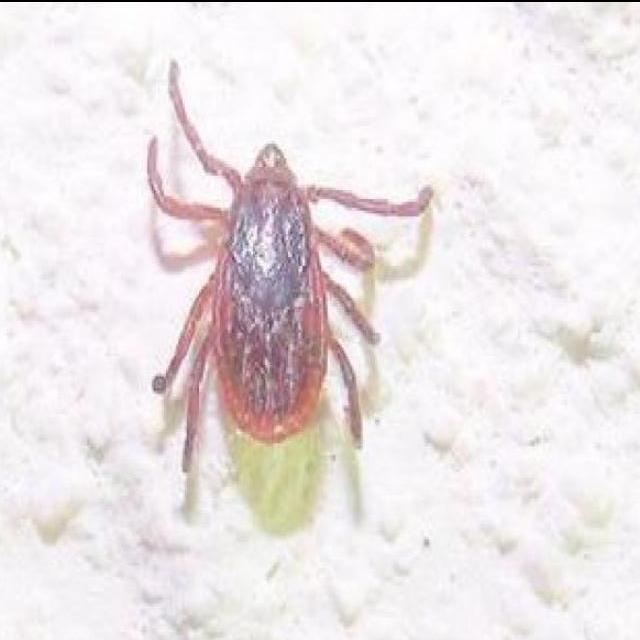Rhipicephalus Sanguineus-F: (145, 54, 433, 470)
